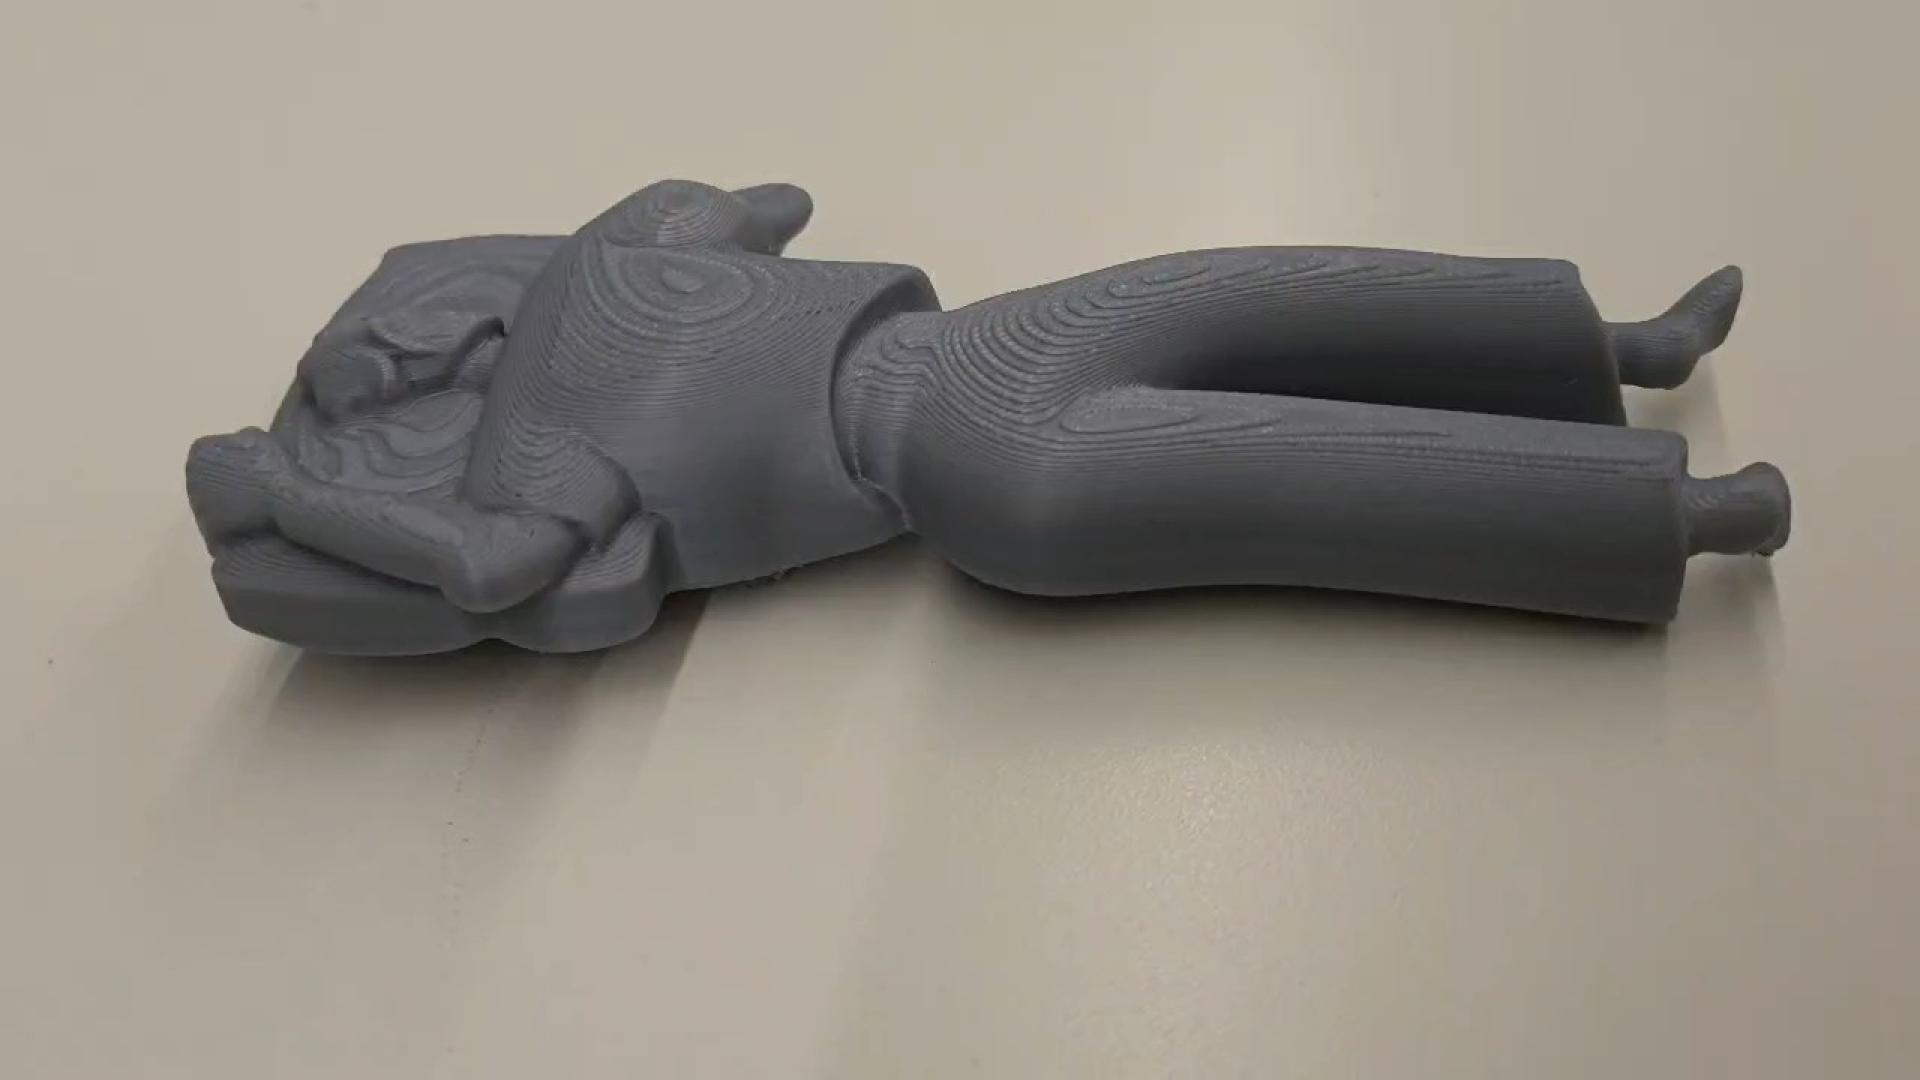Bad-style: (183, 171, 1800, 674)
